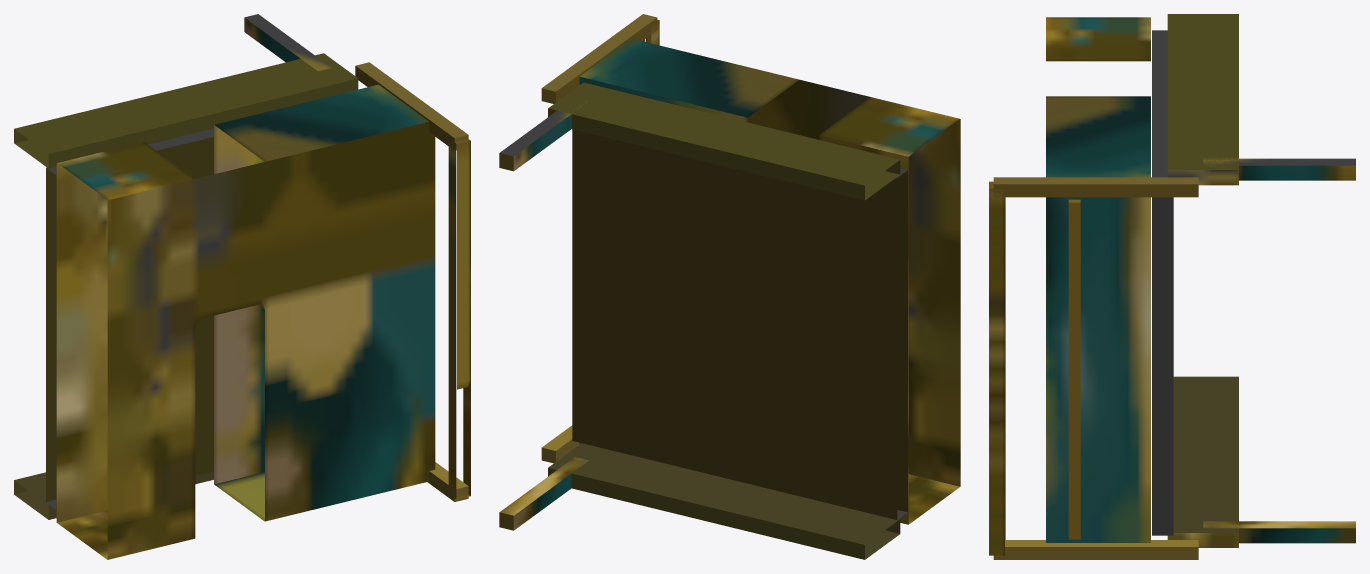
Rendered from section-3.obj.
The picture shows the model from 3 angles, left to right: view 1: azimuth 30°, elevation 25°; view 2: azimuth 150°, elevation 25°; view 3: azimuth 270°, elevation 25°; orthographic projection. The views are drawn at different scales.
Size of the model in its own units: 0.84 by 0.875 by 0.7695.
